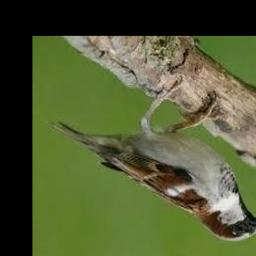Sparrow: (48, 78, 256, 242)
